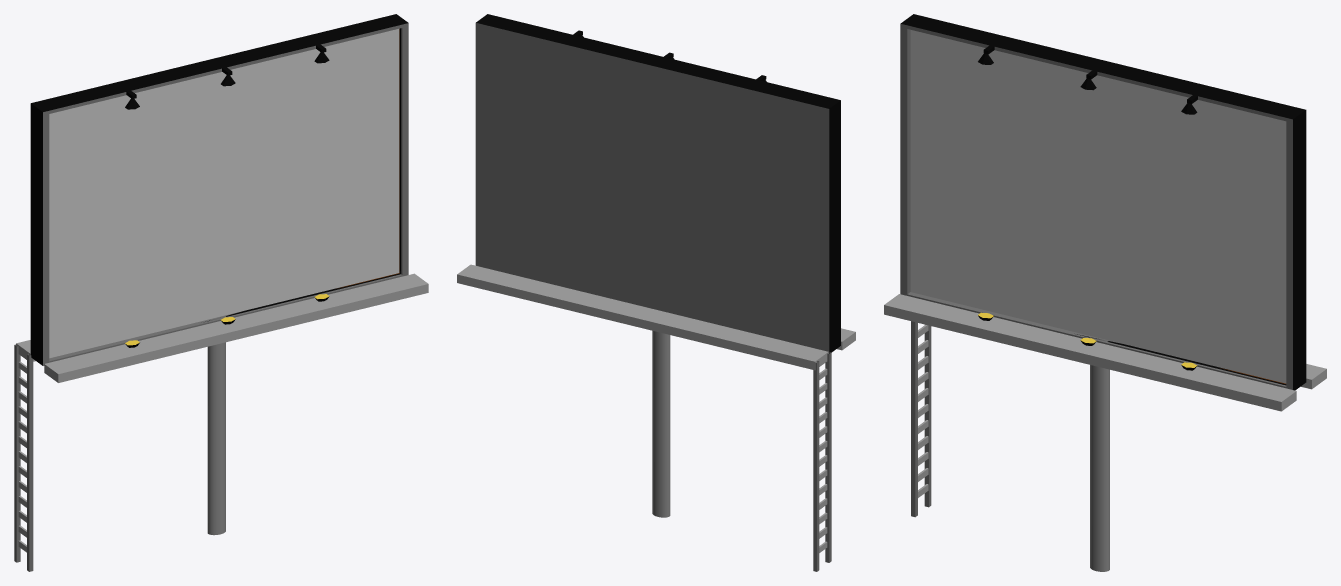
File: OutdoorExcessoVelocidade.fbx
3 renders of one model, left to right at view 1: azimuth 30°, elevation 25°; view 2: azimuth 150°, elevation 25°; view 3: azimuth 330°, elevation 25°, orthographic. The views are drawn at different scales.
Visible parts, largest first — view 1: Outdoor1; view 2: Outdoor1; view 3: Outdoor1.
Boxes of the visible parts, bbox=[...] form: Outdoor1: bbox=[14, 14, 428, 571]; Outdoor1: bbox=[457, 14, 855, 571]; Outdoor1: bbox=[884, 14, 1326, 571].
Size of the model in its own units: 765 by 920 by 150.
